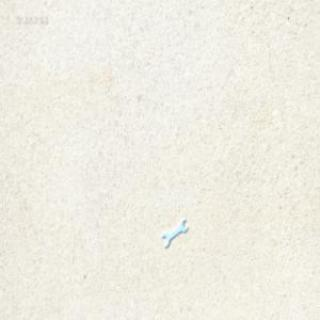Wrenchtrack_idkeyframe: (162, 216, 188, 247)
